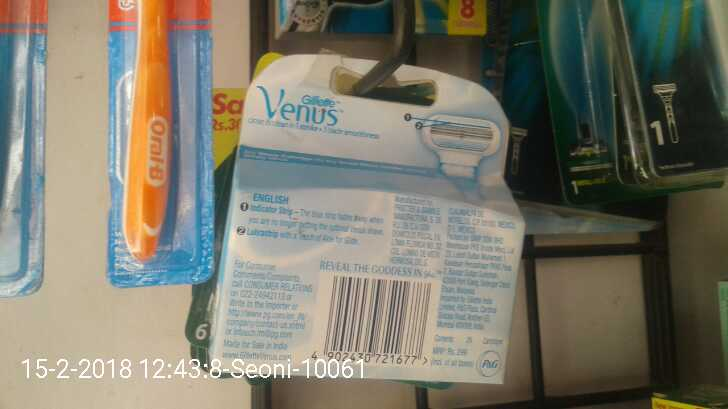reject: (416, 101, 459, 157)
